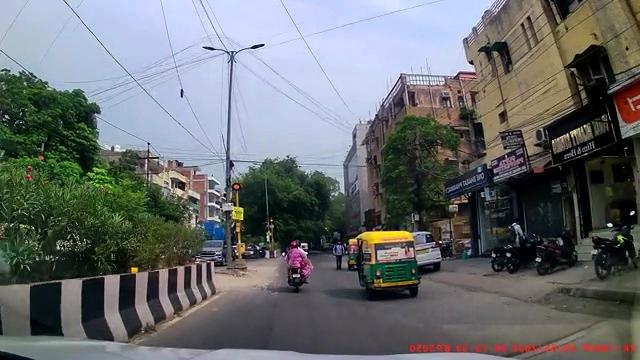passenger_with_helmet: (284, 239, 313, 292)
